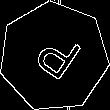P_SW: (25, 26, 83, 88)
